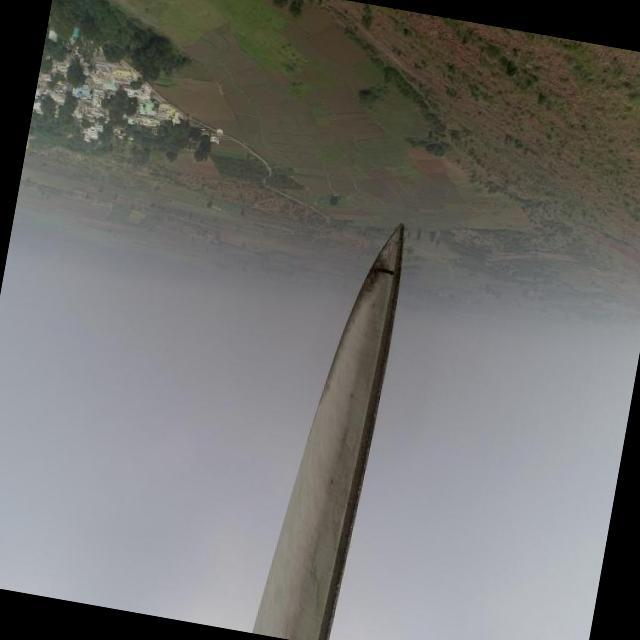Dirt: (270, 228, 404, 638)
Oil LEAKAGE: (318, 254, 399, 398)
